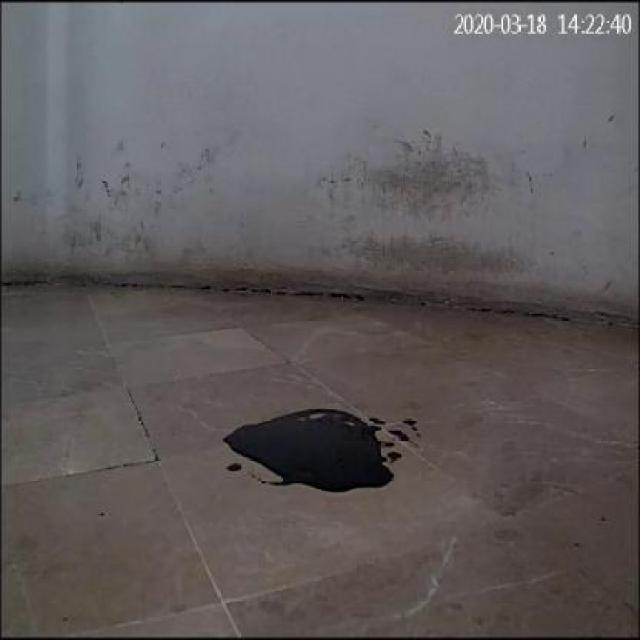spill: (230, 408, 390, 483)
